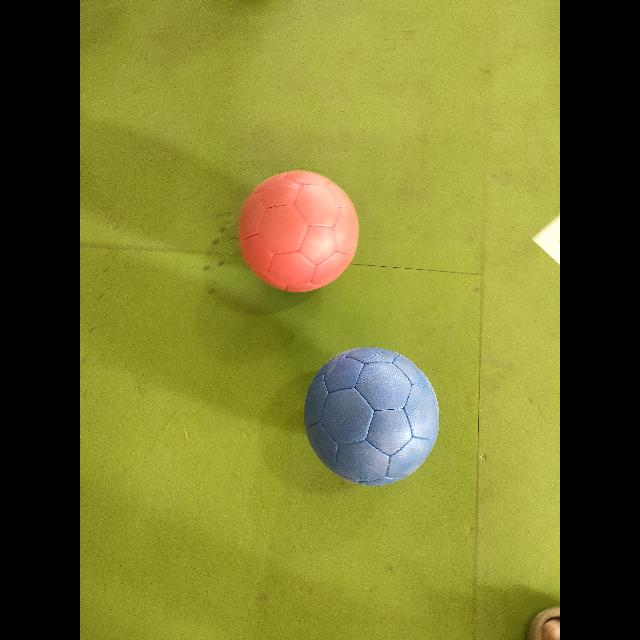B: (305, 348, 439, 486)
R: (238, 171, 359, 291)
